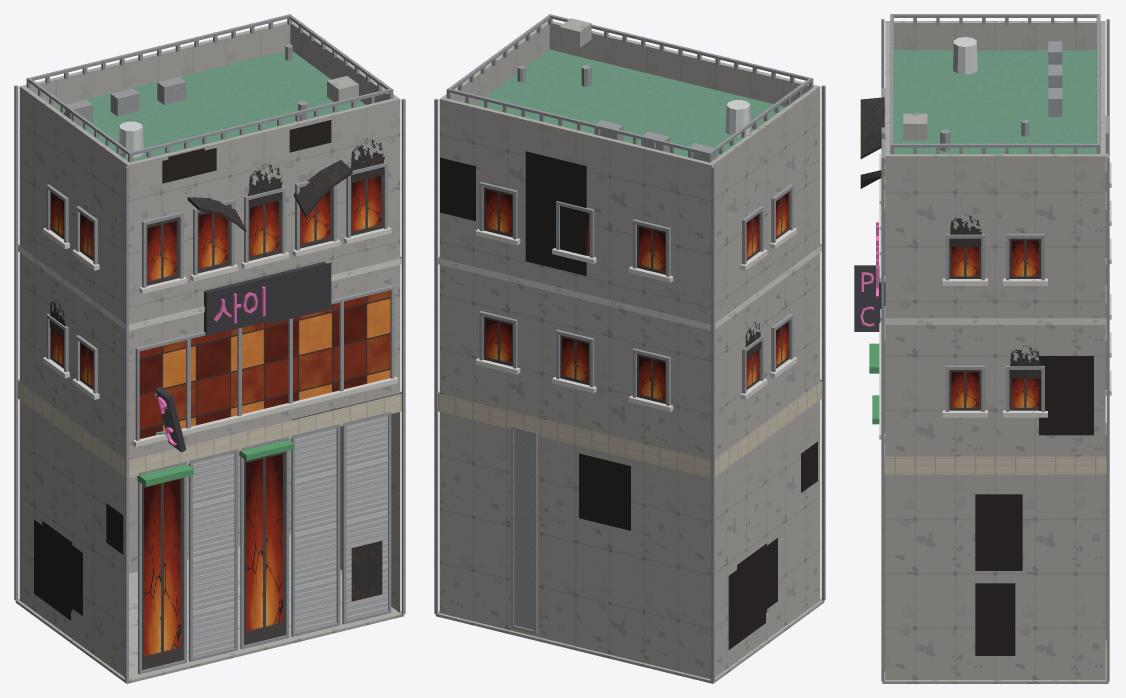
The model's file is Story08_사이버넷_화남.fbx.
3 renders of one model, left to right at view 1: azimuth 30°, elevation 25°; view 2: azimuth 150°, elevation 25°; view 3: azimuth 270°, elevation 25°, orthographic.
Parts seen in each view (by area): view 1: Story08_사이버넷_화남; view 2: Story08_사이버넷_화남; view 3: Story08_사이버넷_화남.
Boxes of the visible parts, left/top/right/bottom form: Story08_사이버넷_화남: left=14, top=14, right=405, bottom=683; Story08_사이버넷_화남: left=434, top=14, right=825, bottom=683; Story08_사이버넷_화남: left=854, top=14, right=1111, bottom=683.
Size of the model in its own units: 3320 by 5980 by 2567.
Materials: 15 (15 with a texture image).
